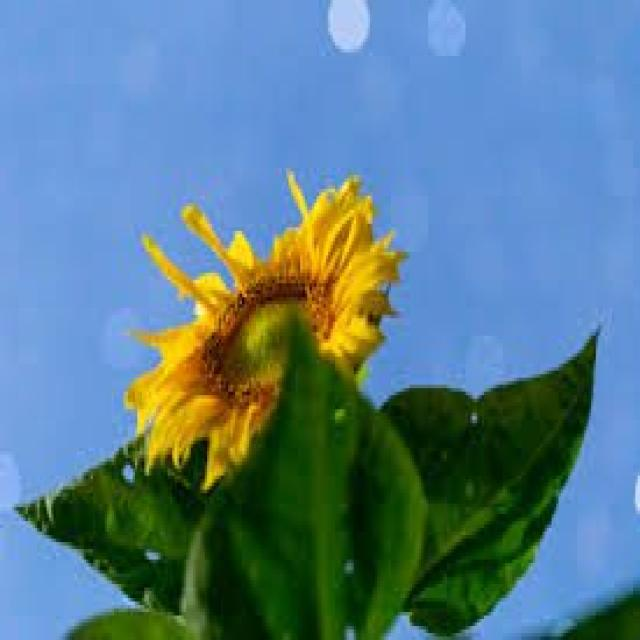sunflower: (121, 171, 409, 493)
